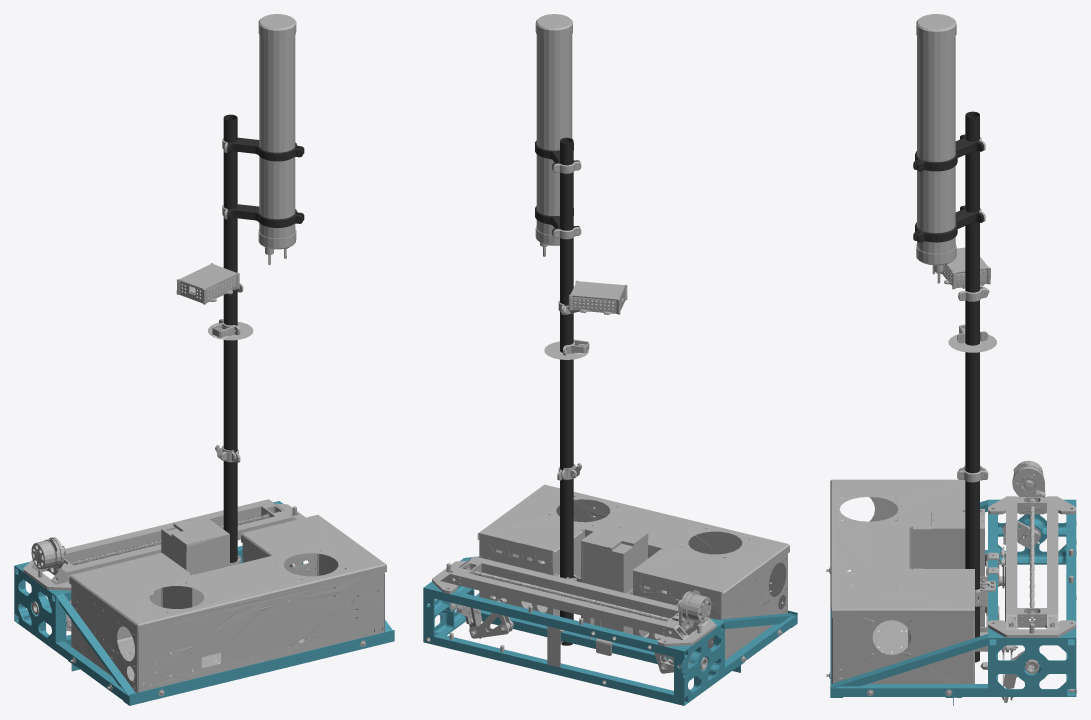
The model's file is rover_chassis.fbx.
The picture shows the model from 3 angles, left to right: view 1: azimuth 30°, elevation 25°; view 2: azimuth 150°, elevation 25°; view 3: azimuth 270°, elevation 25°; orthographic projection. The views are drawn at different scales.
Visible parts, largest first — view 1: chassis; view 2: chassis; view 3: chassis.
Part boxes in pixels (left/top/right/bottom): chassis: left=14, top=14, right=394, bottom=705; chassis: left=423, top=14, right=797, bottom=705; chassis: left=826, top=14, right=1076, bottom=705.
Size of the model in its own units: 48.65 by 65.09 by 140.
